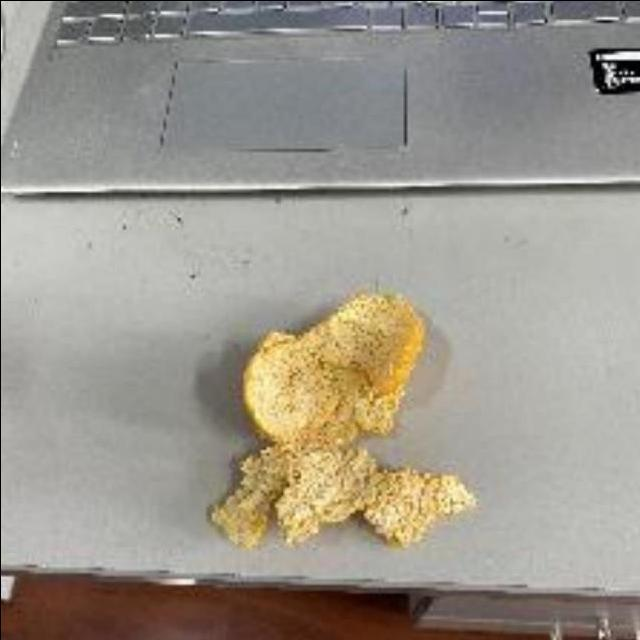orange peel: (203, 282, 478, 556)
